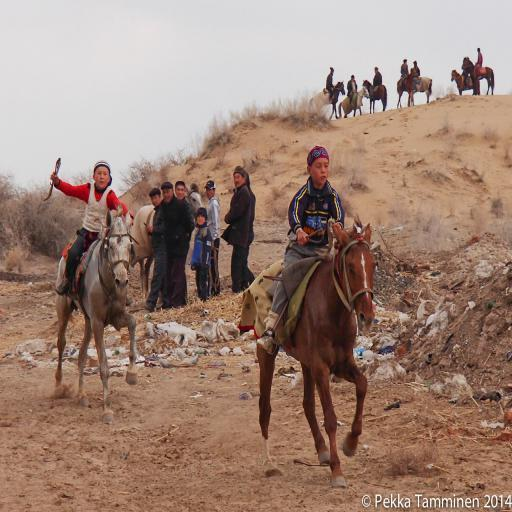horse: (255, 213, 377, 490), (56, 212, 138, 424), (128, 182, 204, 310), (308, 80, 344, 122), (462, 54, 494, 96), (338, 88, 370, 120), (396, 66, 419, 110), (450, 70, 482, 98), (362, 80, 387, 114), (414, 76, 434, 102)
